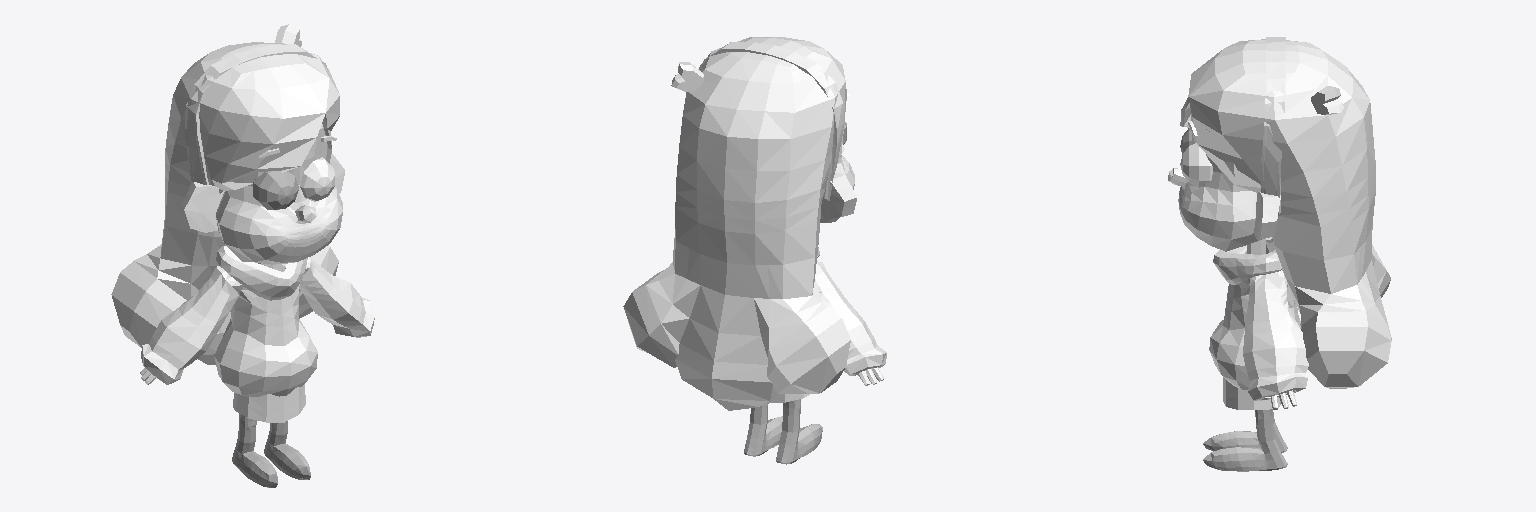
The model's file is mabel9.obj.
3 renders of one model, left to right at view 1: azimuth 30°, elevation 25°; view 2: azimuth 150°, elevation 25°; view 3: azimuth 270°, elevation 25°, orthographic.
Visible parts, largest first — view 1: Mabel_GRP2, Feet_GEO, nurbsToPoly22, nurbsToPoly12; view 2: Mabel_GRP2, Feet_GEO; view 3: Mabel_GRP2, Feet_GEO, nurbsToPoly12.
Boxes of the visible parts, <box> form: Mabel_GRP2: <box>111,24,374,422</box>; Feet_GEO: <box>232,413,310,487</box>; nurbsToPoly22: <box>253,171,298,209</box>; nurbsToPoly12: <box>300,157,334,201</box>; Mabel_GRP2: <box>623,37,886,410</box>; Feet_GEO: <box>744,399,822,464</box>; Mabel_GRP2: <box>1168,37,1391,409</box>; Feet_GEO: <box>1203,409,1287,471</box>; nurbsToPoly12: <box>1180,143,1212,187</box>.
Bounding box in the file's own units: 1.77 × 3.06 × 1.51.